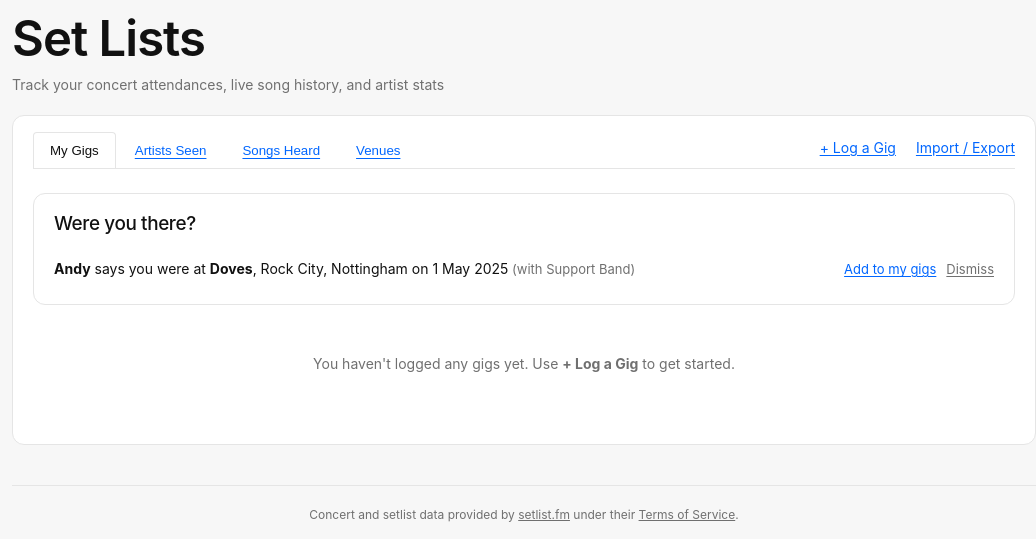
SetlistsPage › shows gig invites on My Gigs and adds one
Click the button "Add to my gigs": (890, 270) [844, 260, 936, 280]
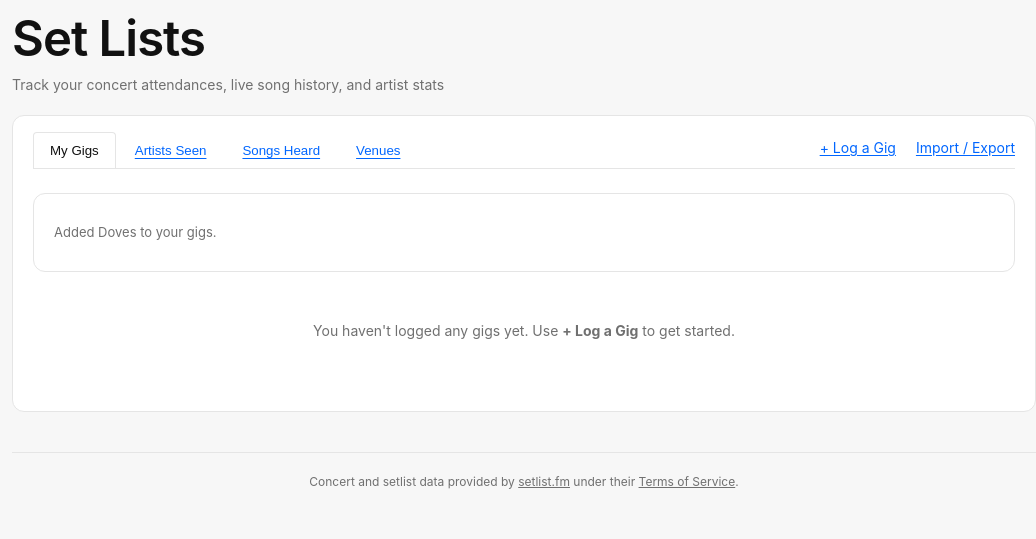
Check: the text "Added Doves to your gigs." is shown, box [54, 224, 216, 240]
